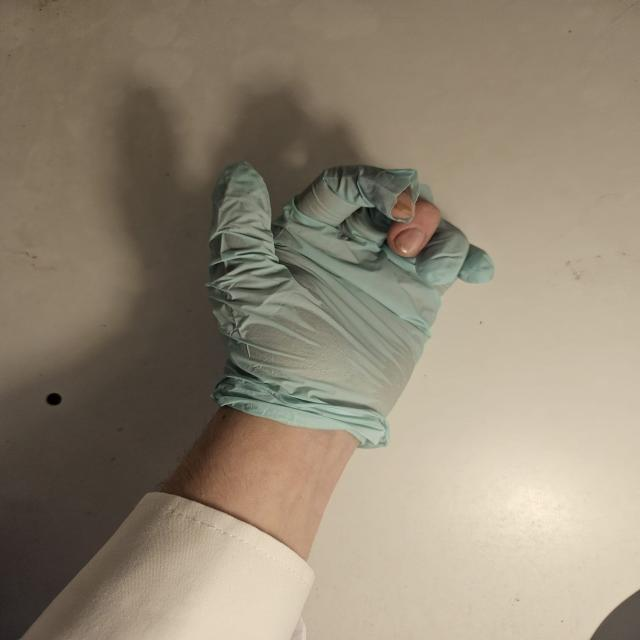gloves_damaged: (204, 158, 499, 448)
